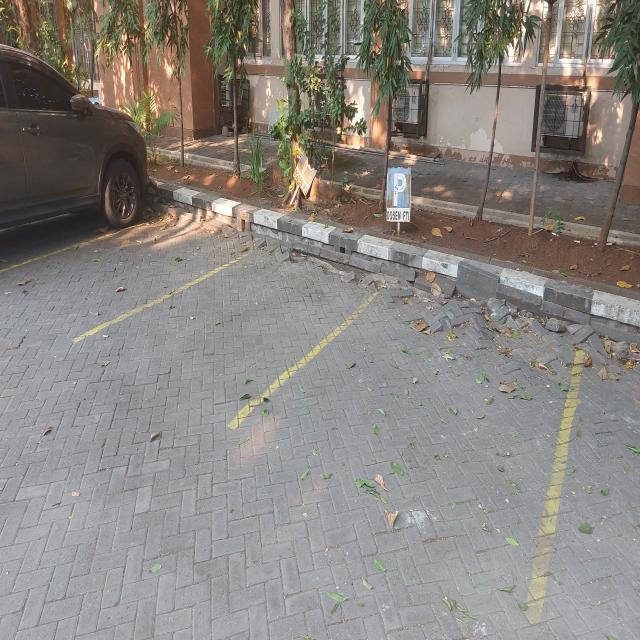empty: (233, 276, 584, 608), (77, 240, 392, 426), (0, 212, 267, 341)
